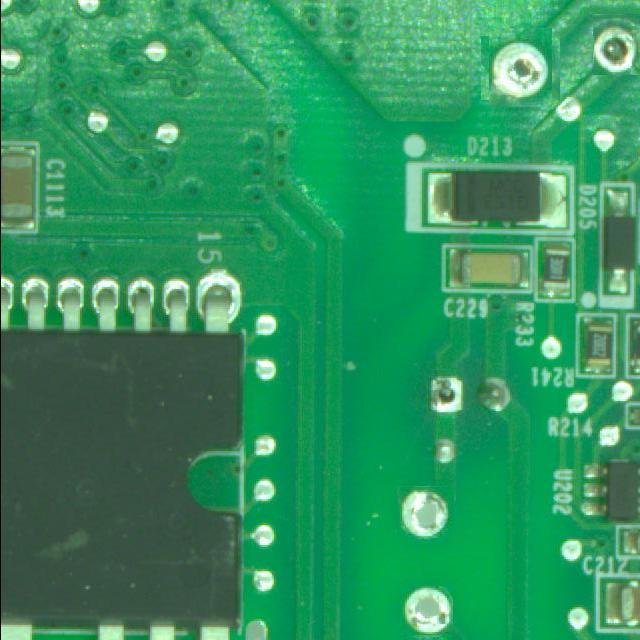lack_of_part: (485, 32, 556, 104), (397, 486, 454, 538), (593, 14, 640, 75), (401, 585, 453, 636), (427, 369, 466, 420)
